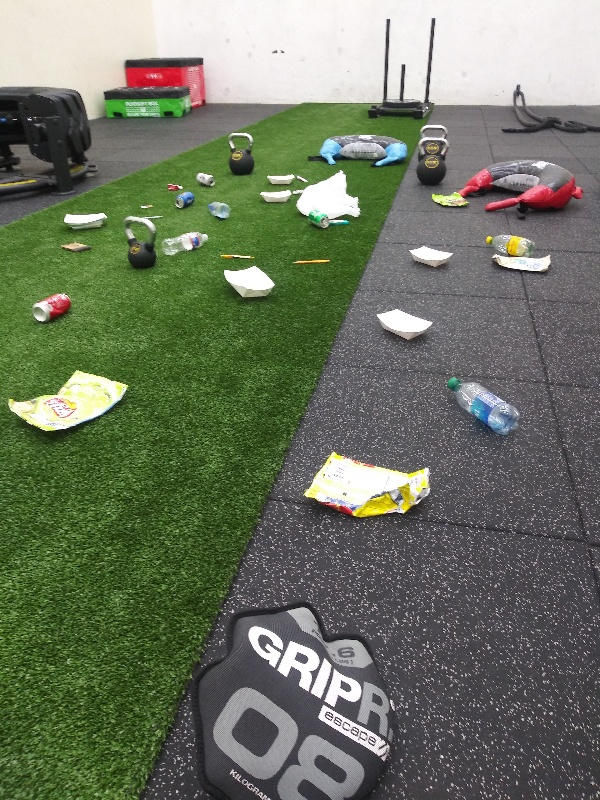bag: (292, 450, 438, 523), (2, 367, 127, 441), (482, 250, 552, 274), (428, 187, 470, 214)
bottle: (441, 374, 525, 443), (161, 230, 213, 259), (479, 232, 535, 256), (204, 197, 232, 221)
can: (29, 292, 76, 329), (171, 191, 199, 211), (191, 171, 217, 189)
plate: (368, 306, 437, 345), (220, 262, 278, 304), (402, 240, 455, 270), (60, 211, 111, 231), (257, 186, 296, 206), (261, 173, 296, 187)
